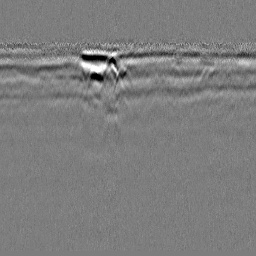cavity: (112, 66, 135, 94)
